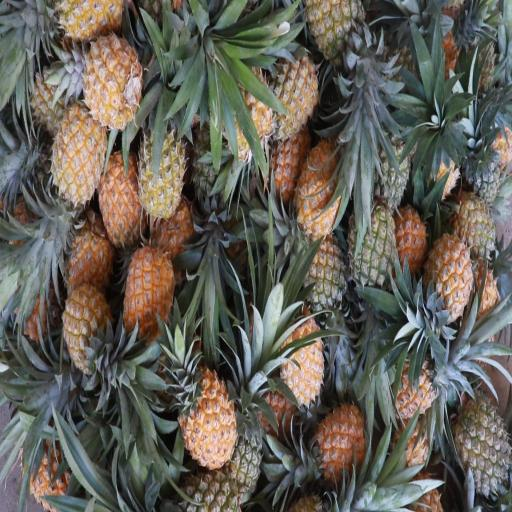------------------------------: (292, 206, 349, 312), (134, 107, 184, 222), (304, 0, 373, 79), (450, 184, 499, 277)
Pineapple - v8 v1: (175, 344, 239, 466), (267, 299, 327, 417), (76, 11, 139, 123), (45, 100, 106, 212), (293, 133, 351, 249), (308, 394, 374, 488), (123, 246, 180, 354), (423, 222, 474, 338), (264, 38, 318, 136), (96, 146, 148, 246), (60, 276, 110, 375)
